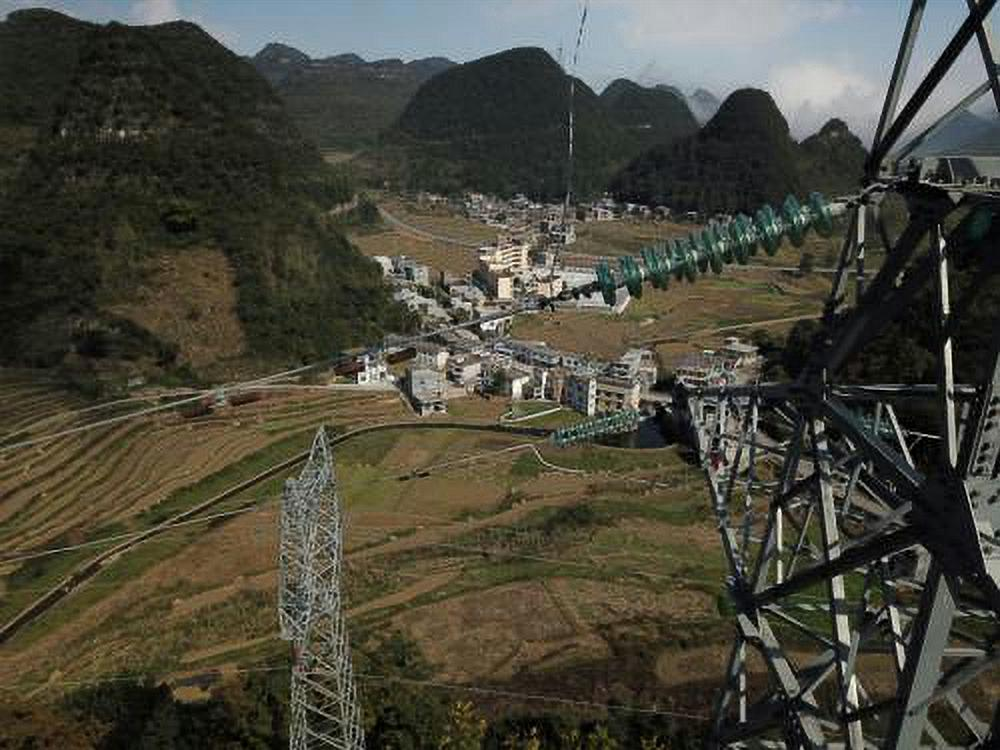insulator: (592, 187, 838, 310), (549, 403, 641, 452)
